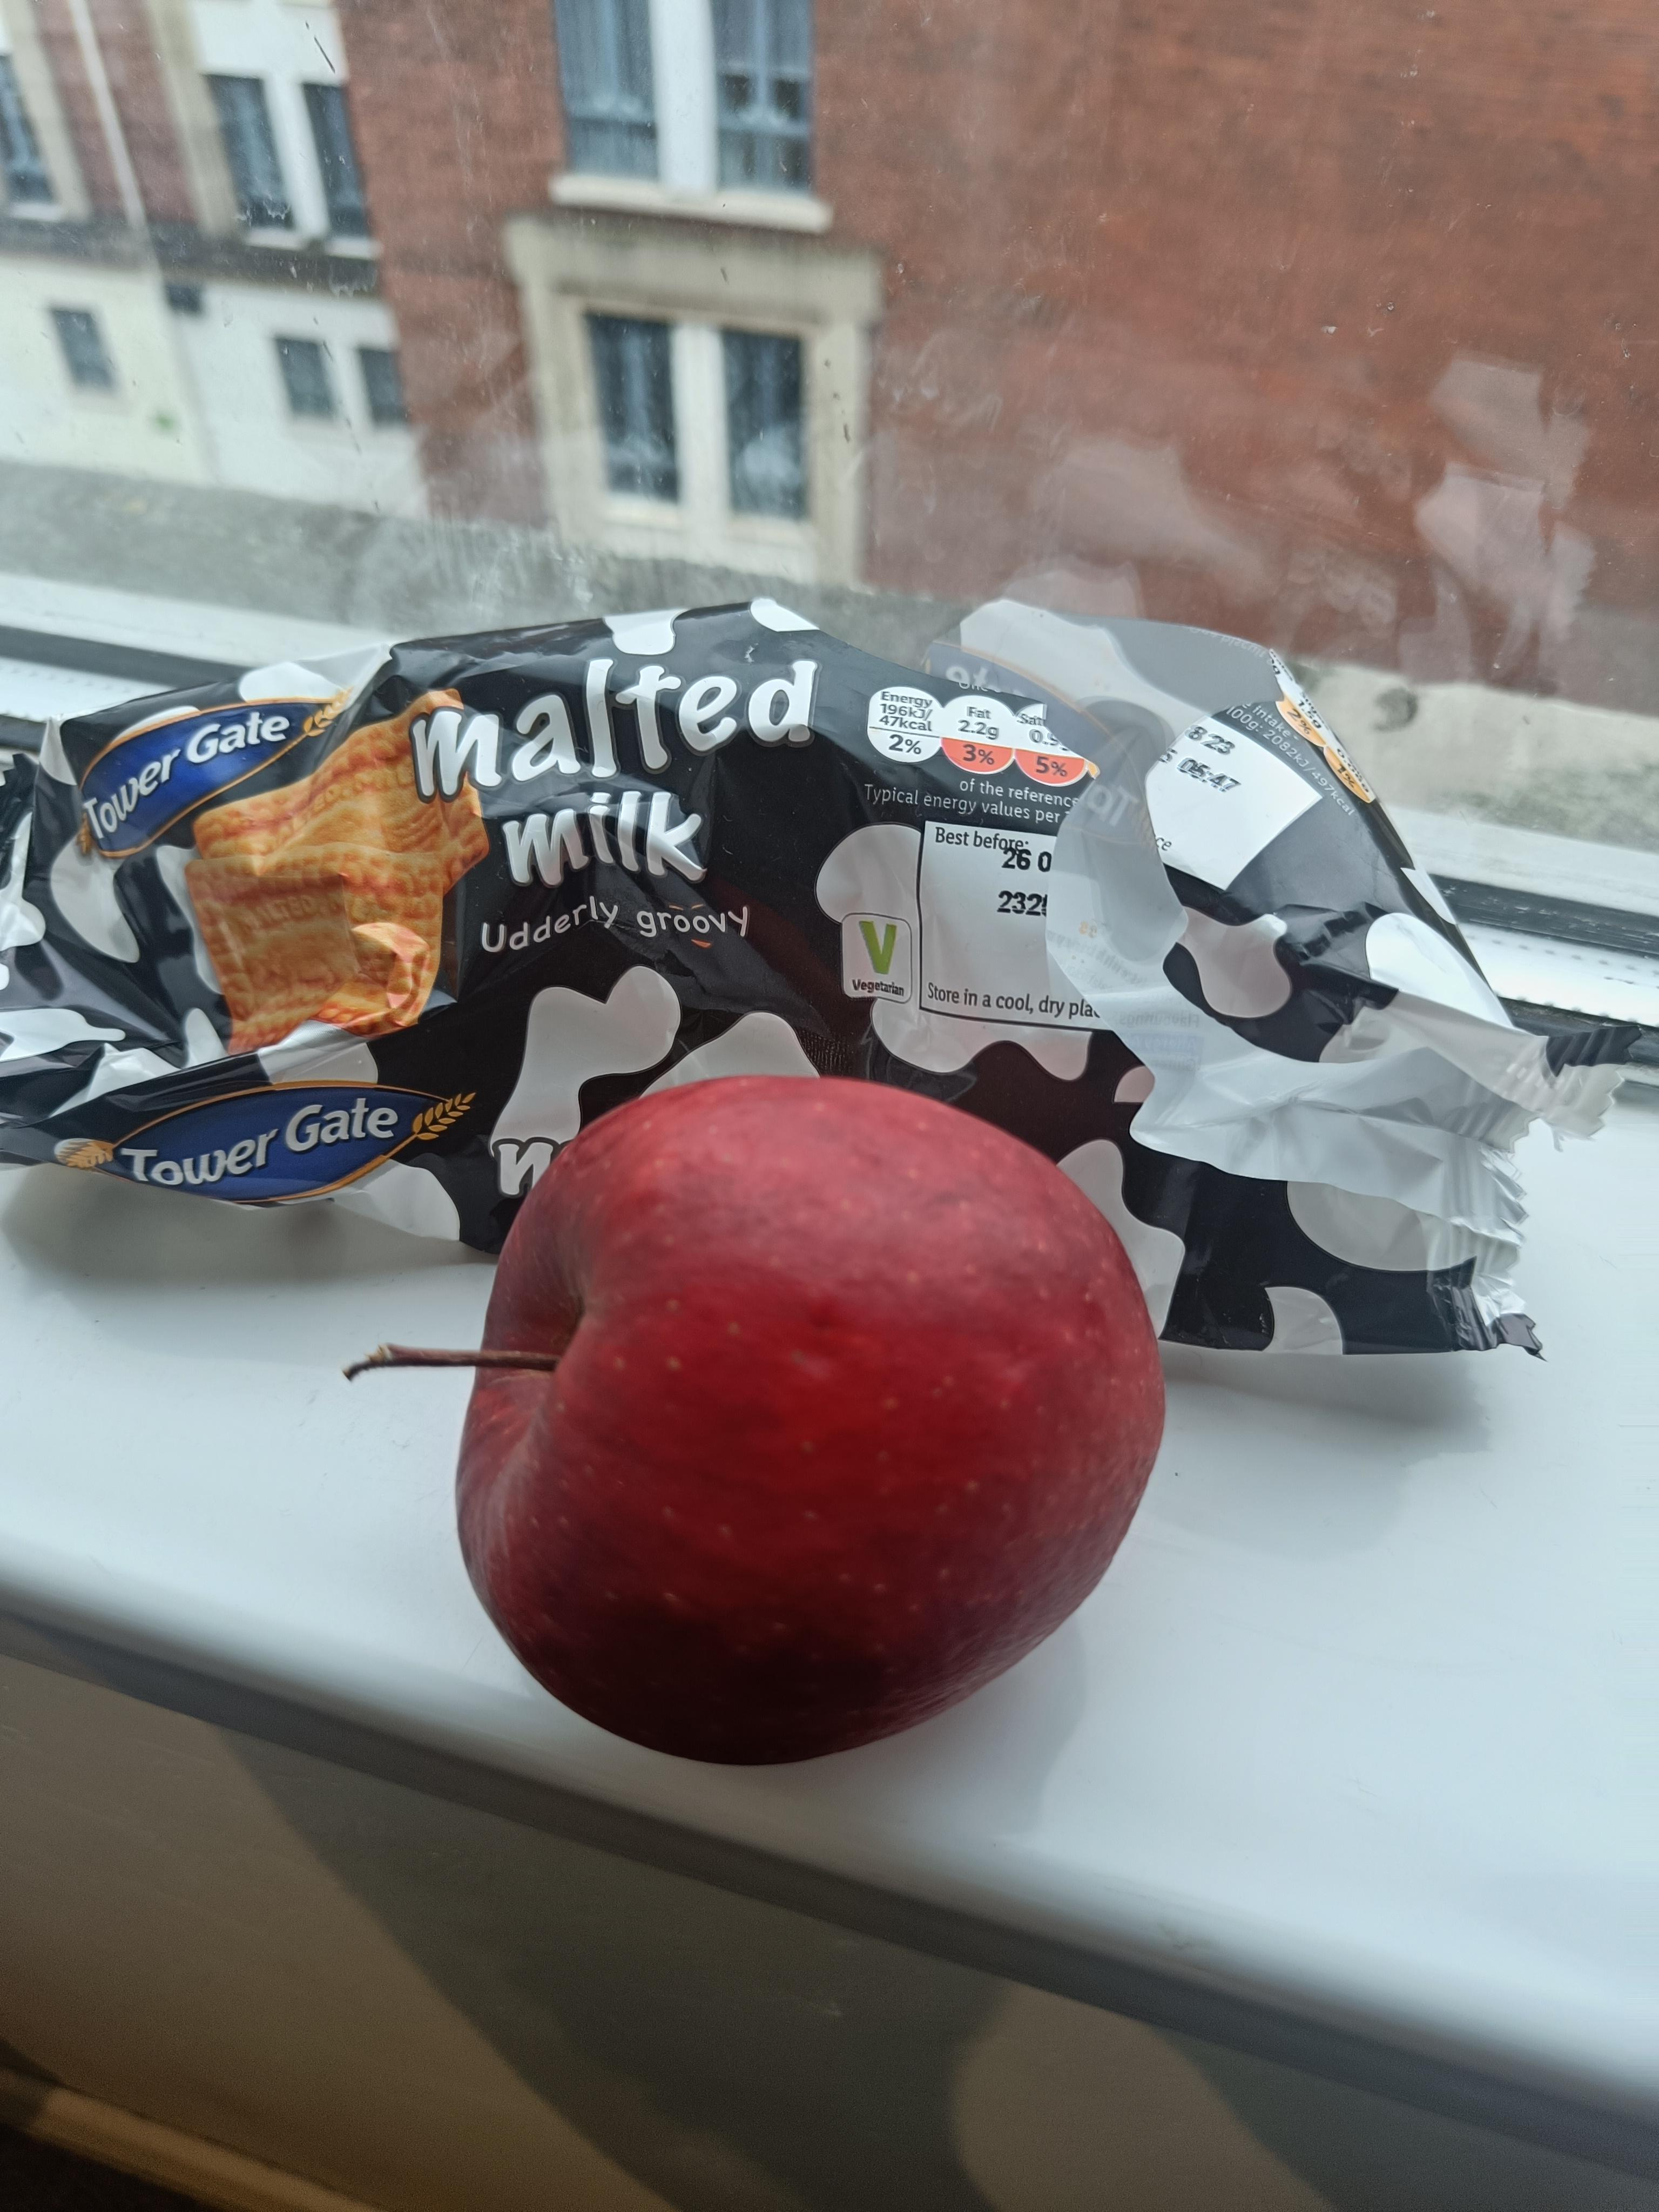Apple: (300, 1028, 1297, 1676)
